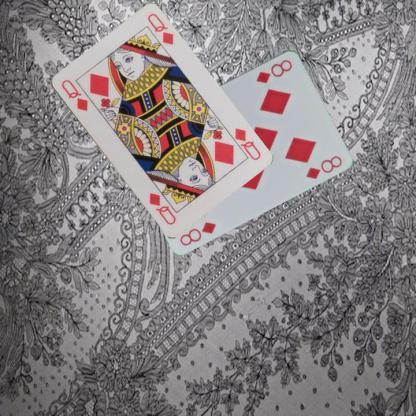8d: (178, 218, 218, 247), (254, 56, 294, 84)
Qd: (224, 124, 262, 162), (58, 76, 89, 113)
